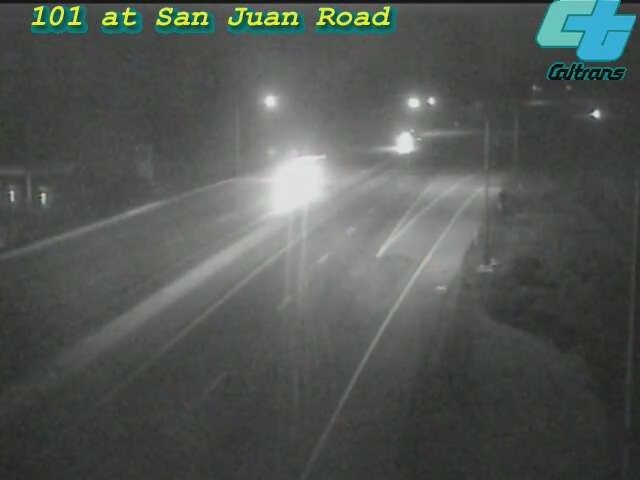vehicle: (256, 135, 336, 215), (378, 118, 428, 168), (570, 89, 620, 139)
